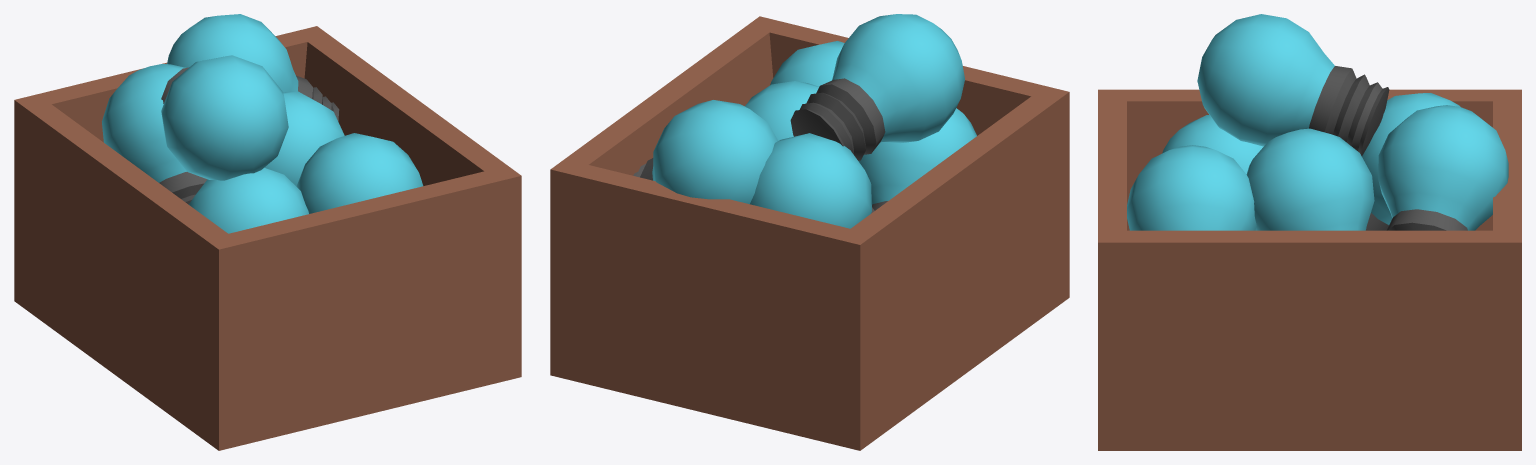
The model's file is luces_corregido.fbx.
3 renders of one model, left to right at view 1: azimuth 30°, elevation 25°; view 2: azimuth 150°, elevation 25°; view 3: azimuth 270°, elevation 25°, orthographic. The views are drawn at different scales.
Visible parts, largest first — view 1: cajas_luces_celeste; view 2: cajas_luces_celeste; view 3: cajas_luces_celeste.
Boxes of the visible parts, box(x1,y1,x2,y2) form: cajas_luces_celeste: box(14, 14, 521, 450); cajas_luces_celeste: box(550, 14, 1069, 450); cajas_luces_celeste: box(1098, 14, 1521, 450).
Size of the model in its own units: 0.7421 by 0.7246 by 0.8685.
